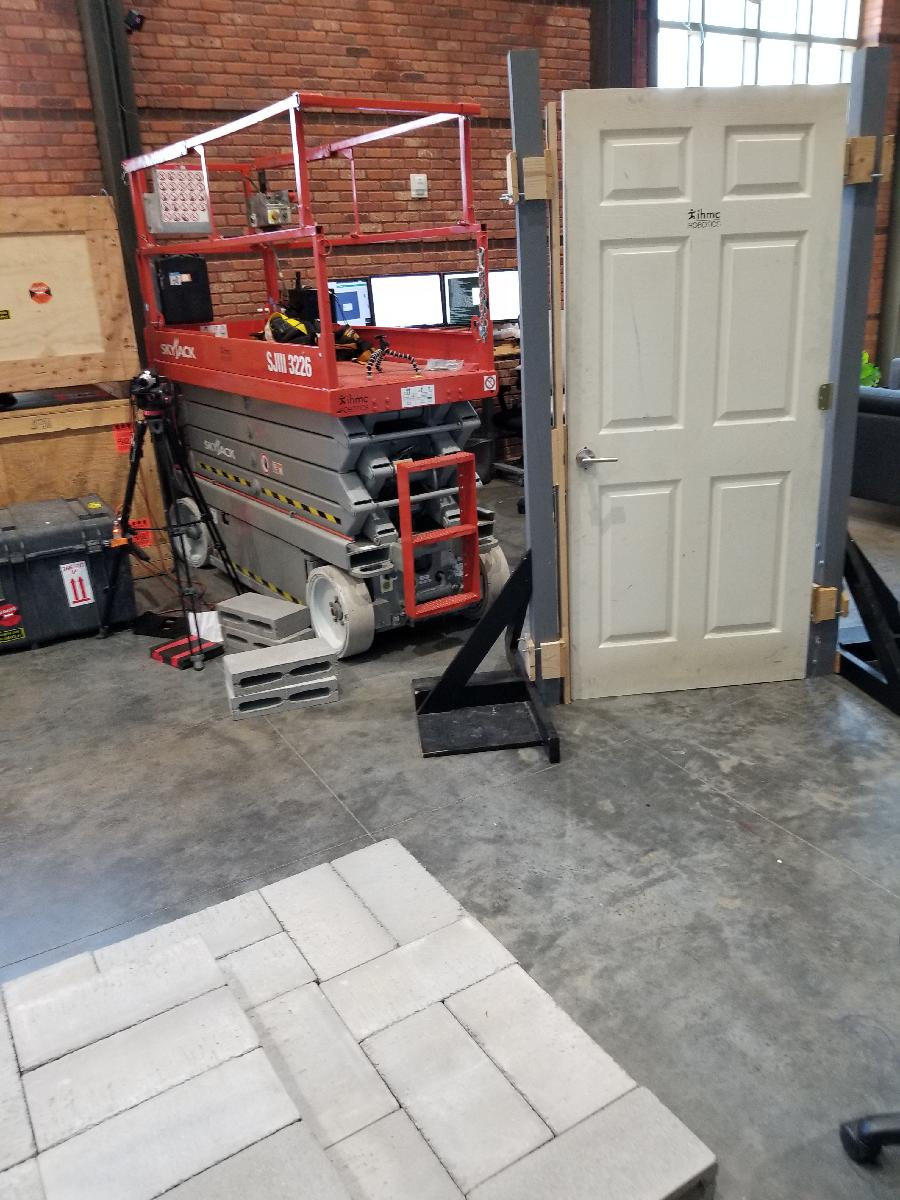door: (558, 79, 856, 708)
doorHandle: (573, 448, 620, 481)
